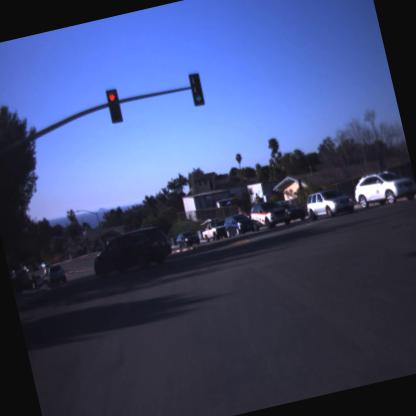trafficlight: (99, 85, 130, 131), (182, 71, 207, 110)
